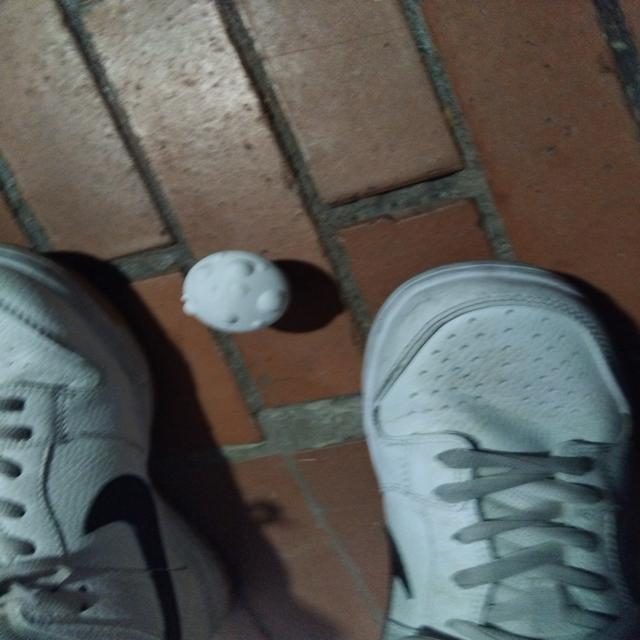Hongo: (168, 242, 302, 342)
